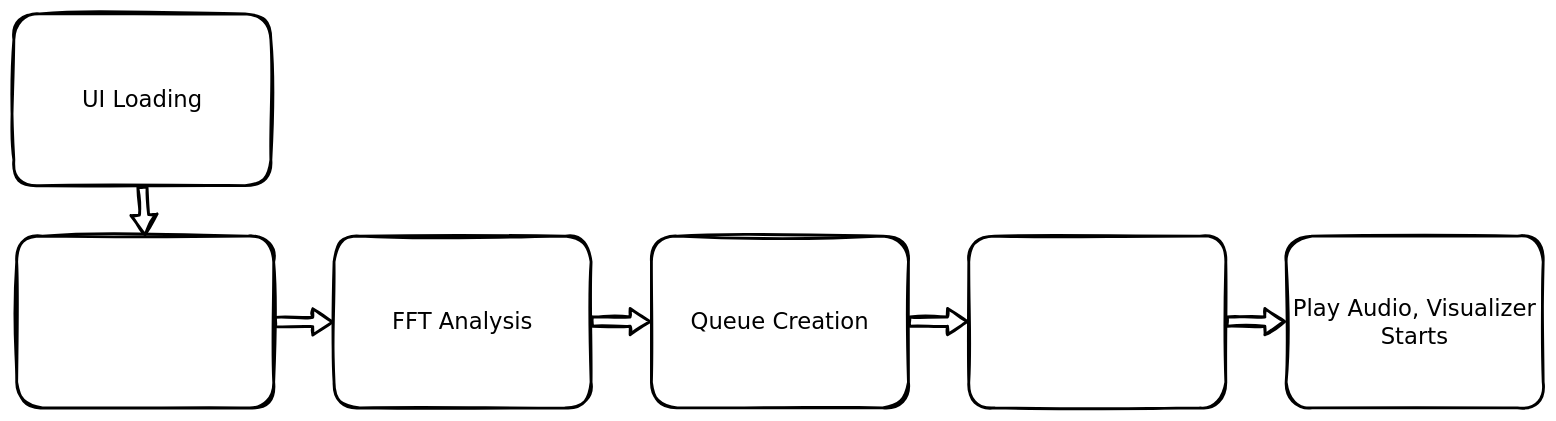
This 1556x421 diagram has some shape labels left out. Here are the shapes that lost their labels. From the top down, the centre of each, then its label:
At point 145,321: "Audio Loading Drag and Drop".
At point 1097,321: "Visualizer Selection".
